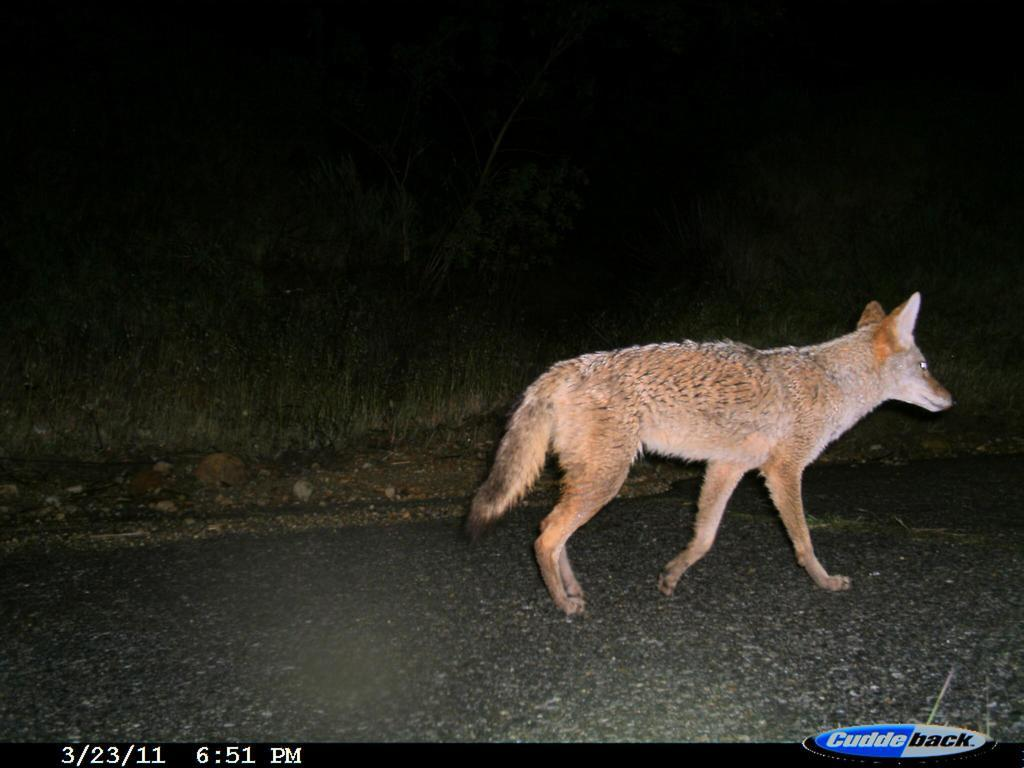coyote: (457, 290, 962, 617)
